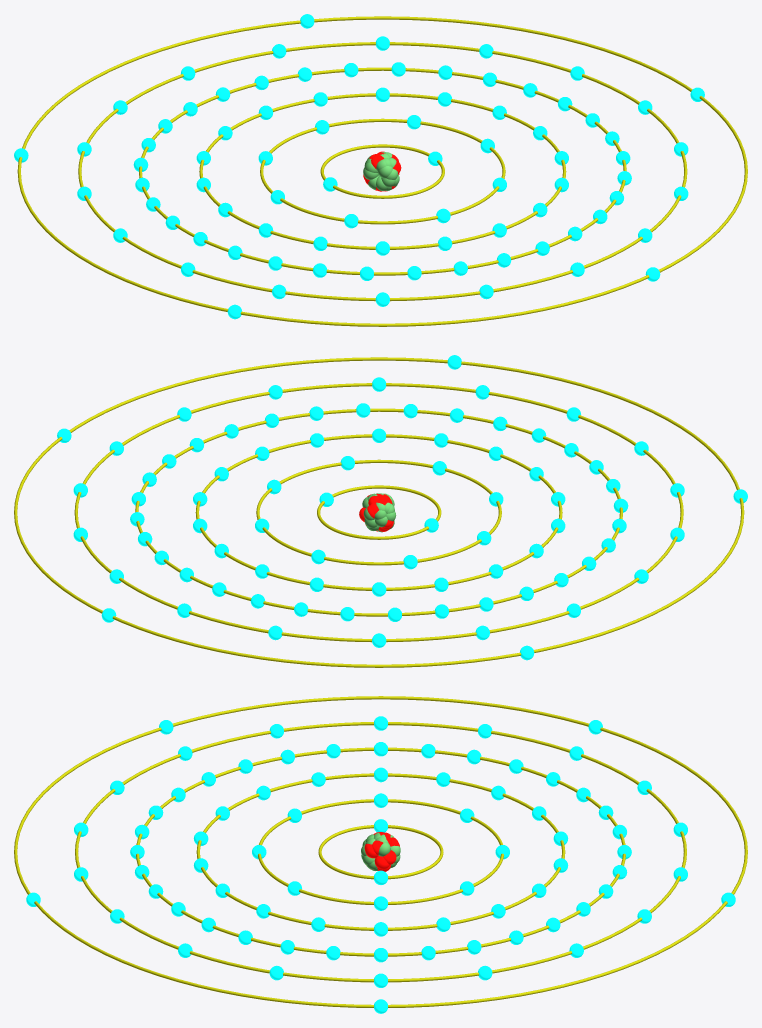
Rendered from atomo_83.glb.
The picture shows the model from 3 angles, top to bottom: view 1: azimuth 30°, elevation 25°; view 2: azimuth 150°, elevation 25°; view 3: azimuth 270°, elevation 25°; orthographic projection.
Parts seen in each view (by area): view 1: orbital_6, orbital_5, orbital_4, orbital_3, orbital_2, orbital_1; view 2: orbital_6, orbital_5, orbital_4, orbital_3, orbital_2, orbital_1; view 3: orbital_6, orbital_5, orbital_4, orbital_3, orbital_2, orbital_1.
Boxes of the visible parts, x1=… form: orbital_6: x1=17, y1=16, x2=747, y2=326; orbital_5: x1=78, y1=42, x2=687, y2=301; orbital_4: x1=139, y1=67, x2=626, y2=275; orbital_3: x1=199, y1=93, x2=566, y2=249; orbital_2: x1=260, y1=118, x2=505, y2=224; orbital_1: x1=320, y1=144, x2=444, y2=198; orbital_6: x1=14, y1=357, x2=744, y2=667; orbital_5: x1=74, y1=383, x2=683, y2=642; orbital_4: x1=135, y1=408, x2=622, y2=616; orbital_3: x1=195, y1=434, x2=562, y2=590; orbital_2: x1=256, y1=459, x2=501, y2=565; orbital_1: x1=317, y1=485, x2=441, y2=539; orbital_6: x1=14, y1=696, x2=747, y2=1007; orbital_5: x1=75, y1=722, x2=686, y2=982; orbital_4: x1=136, y1=747, x2=625, y2=956; orbital_3: x1=196, y1=773, x2=565, y2=930; orbital_2: x1=258, y1=799, x2=503, y2=904; orbital_1: x1=318, y1=825, x2=443, y2=879.
Size of the model in its own units: 18.22 by 0.9999 by 18.08.
